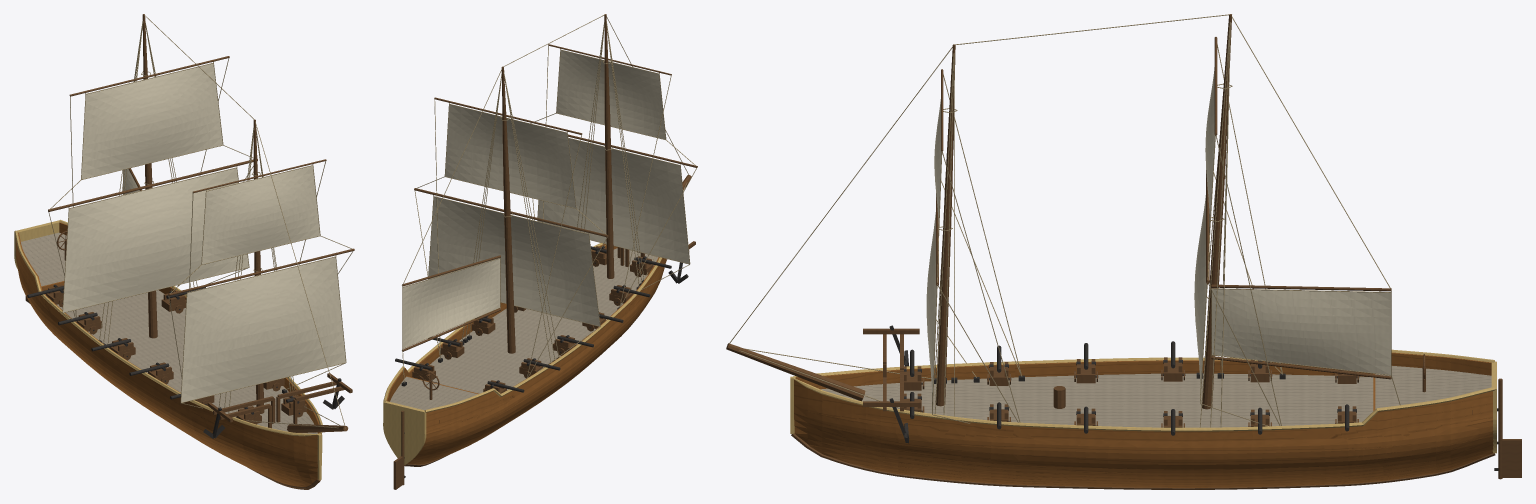
The picture shows the model from 3 angles, left to right: view 1: azimuth 30°, elevation 25°; view 2: azimuth 150°, elevation 25°; view 3: azimuth 270°, elevation 25°; orthographic projection. The views are drawn at different scales.
Visible parts, largest first — view 1: lod2_fore_square_00, lod2_main_square_00, lod2_main_square_01, lod2_hull_shell_starboard, lod2_fore_square_01, lod2_main_deck, lod2_castle_deck_0, lod2_gunwale_starboard, lod2_main, lod2_main_square_00_yard, lod2_stern_closure, lod2_fore_square_00_yard (+5 smaller); view 2: lod2_main_square_00, lod2_fore_square_00, lod2_main_square_01, lod2_main_deck, lod2_hull_shell_starboard, lod2_fore_square_01, lod2_main_gaff_02, lod2_stern_closure, lod2_main, lod2_fore, lod2_castle_deck_0, lod2_gunwale_starboard (+8 smaller); view 3: lod2_hull_shell_port, lod2_main_deck, lod2_main_gaff_02, lod2_hull_shell_starboard, lod2_castle_deck_0, lod2_gunwale_port, lod2_main, lod2_fore, lod2_keel, lod2_gunwale_starboard, lod2_bowsprit, lod2_main_square_00 (+2 smaller).
Part boxes in pixels (box(x1,y1,x2,y2)): lod2_fore_square_00: box(181, 257, 345, 402); lod2_main_square_00: box(63, 168, 248, 312); lod2_main_square_01: box(81, 63, 222, 179); lod2_hull_shell_starboard: box(16, 232, 317, 486); lod2_fore_square_01: box(202, 165, 319, 264); lod2_main_deck: box(56, 290, 317, 433); lod2_castle_deck_0: box(21, 232, 66, 286); lod2_gunwale_starboard: box(14, 230, 317, 436); lod2_main: box(142, 14, 157, 338); lod2_main_square_00_yard: box(48, 159, 257, 211); lod2_stern_closure: box(14, 220, 59, 269); lod2_fore_square_00_yard: box(168, 248, 354, 295); lod2_main_square_00: box(428, 197, 599, 326); lod2_fore_square_00: box(537, 138, 689, 263); lod2_main_square_01: box(445, 104, 575, 208); lod2_main_deck: box(430, 248, 658, 393); lod2_hull_shell_starboard: box(407, 257, 666, 464); lod2_fore_square_01: box(556, 50, 665, 139); lod2_main_gaff_02: box(403, 259, 499, 348); lod2_stern_closure: box(383, 401, 426, 464); lod2_main: box(501, 66, 515, 353); lod2_fore: box(604, 14, 614, 278); lod2_castle_deck_0: box(390, 376, 477, 410); lod2_gunwale_starboard: box(424, 257, 661, 412); lod2_hull_shell_port: box(794, 379, 1493, 487); lod2_main_deck: box(821, 373, 1373, 427); lod2_main_gaff_02: box(1212, 289, 1390, 374); lod2_hull_shell_starboard: box(795, 352, 1491, 389); lod2_castle_deck_0: box(1375, 366, 1491, 408); lod2_gunwale_port: box(793, 378, 1494, 431); lod2_main: box(1202, 14, 1231, 409); lod2_fore: box(936, 44, 955, 406); lod2_keel: box(791, 433, 1495, 489); lod2_gunwale_starboard: box(793, 349, 1494, 376); lod2_bowsprit: box(726, 343, 865, 401); lod2_main_square_00: box(1194, 195, 1206, 393).
Size of the model in its own units: 9.88 by 17.21 by 26.09.
Materials: 7 (7 with a texture image).
